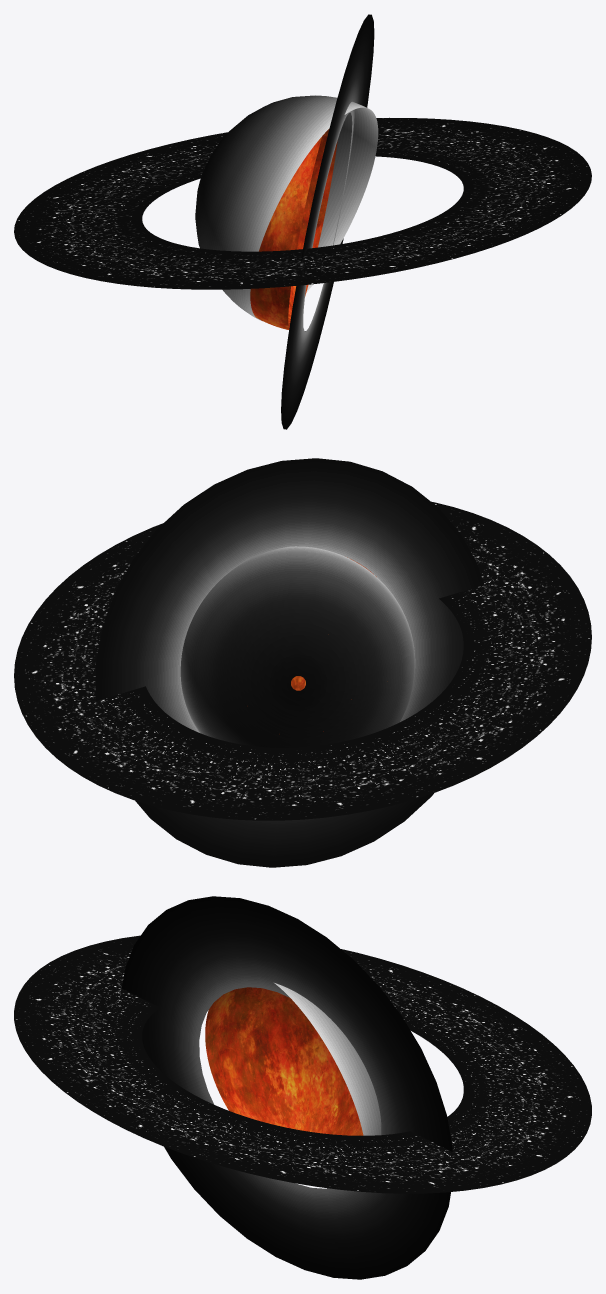
Rendered from env_space_geonosis_03_pre.glb.
3 renders of one model, top to bottom at view 1: azimuth 30°, elevation 25°; view 2: azimuth 150°, elevation 25°; view 3: azimuth 270°, elevation 25°, orthographic.
Visible parts, largest first — view 1: planet_ring_01, planet_fresnel_mesh, planet_glow_mesh, planet_body_mesh; view 2: planet_ring_01, planet_glow_mesh, planet_fresnel_mesh; view 3: planet_ring_01, planet_glow_mesh, planet_body_mesh, planet_fresnel_mesh.
Part boxes in pixels (x1,y1,x2,y2): planet_ring_01: [14, 117, 591, 289]; planet_fresnel_mesh: [195, 95, 378, 320]; planet_glow_mesh: [281, 14, 374, 429]; planet_body_mesh: [250, 128, 337, 329]; planet_ring_01: [14, 501, 591, 820]; planet_glow_mesh: [95, 458, 484, 867]; planet_fresnel_mesh: [180, 546, 415, 747]; planet_ring_01: [14, 935, 591, 1193]; planet_glow_mesh: [122, 896, 452, 1279]; planet_body_mesh: [205, 987, 363, 1135]; planet_fresnel_mesh: [274, 983, 395, 1135].
Size of the model in its own units: 352 by 255 by 346.
4 materials, 4 textured.
